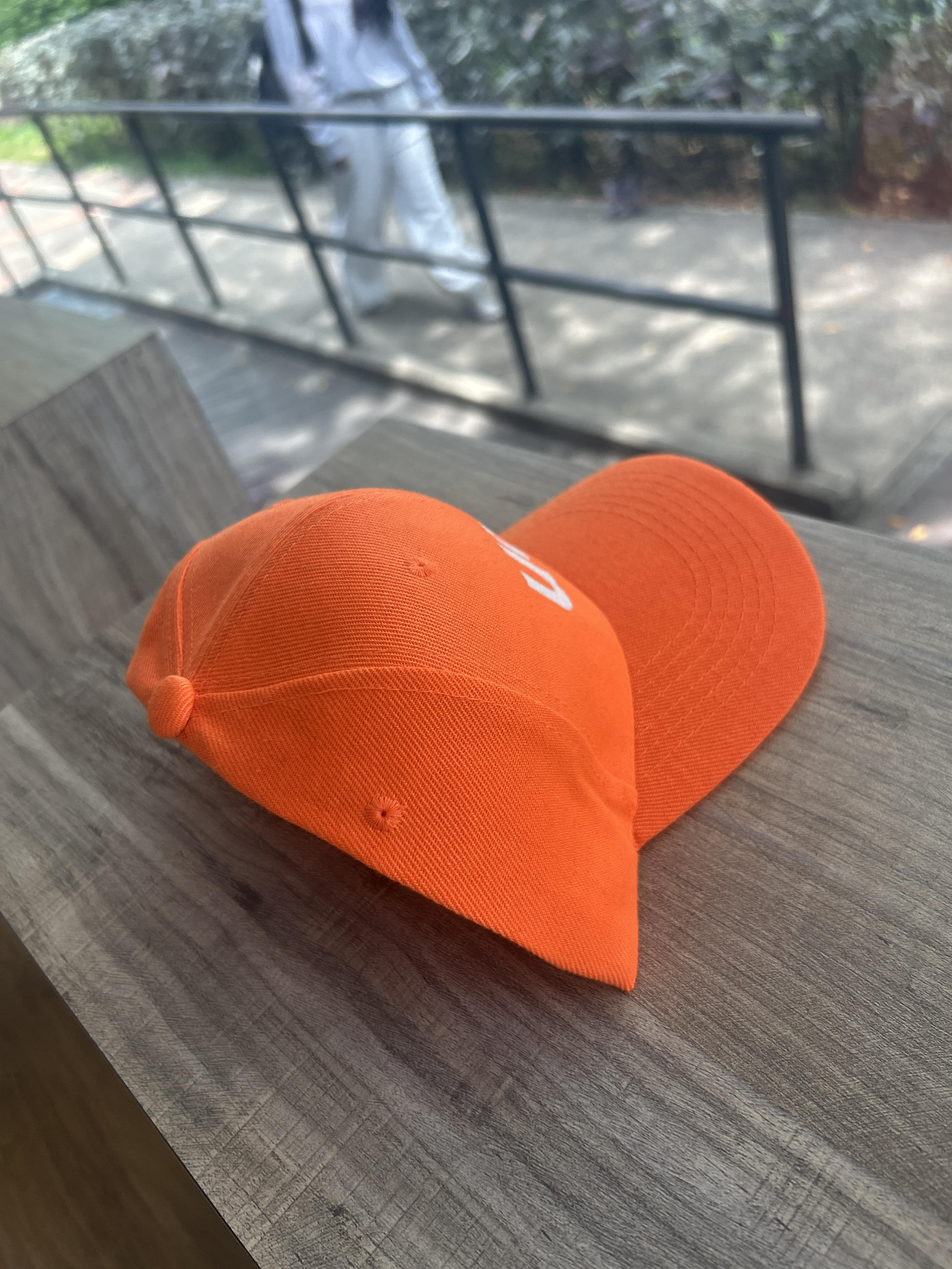gorra: (127, 456, 824, 990)
